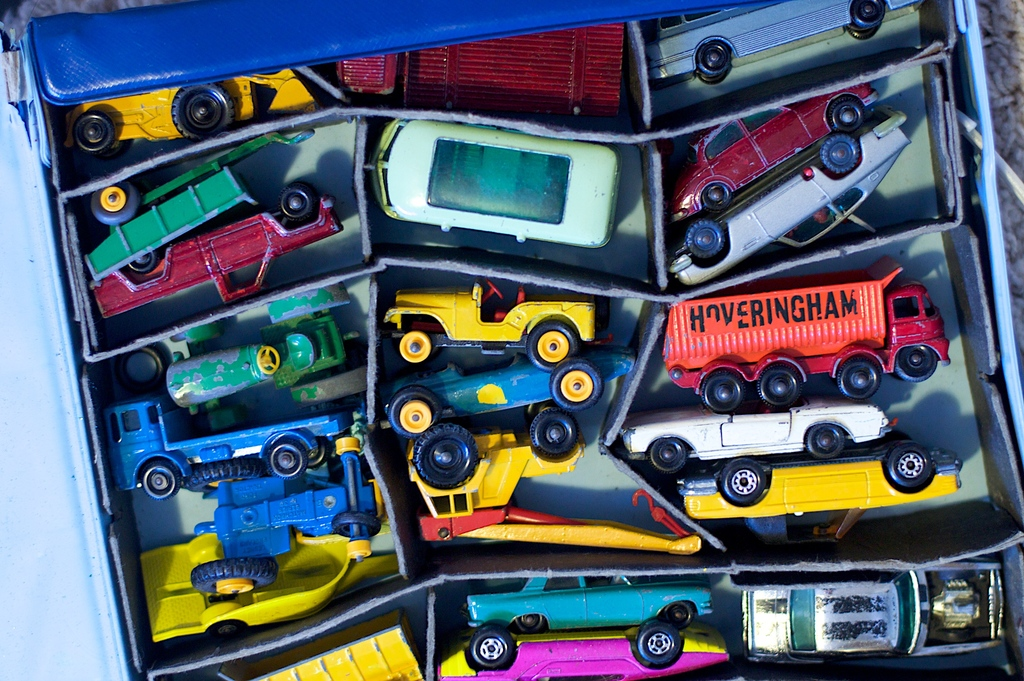Car: (46, 0, 1008, 680), (378, 126, 616, 245)
